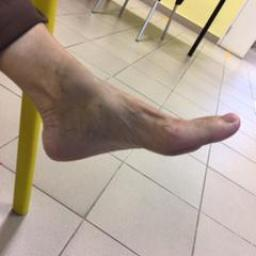Medial View -Left Foot-: (19, 54, 251, 189)
